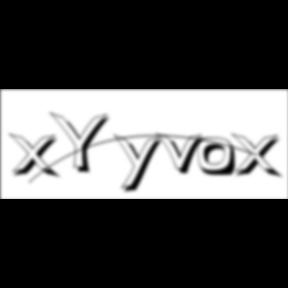Y: (49, 110, 116, 176)
o: (197, 137, 239, 179)
v: (156, 131, 210, 177)
x: (9, 132, 64, 181), (232, 132, 286, 181)
y: (114, 132, 168, 196)
